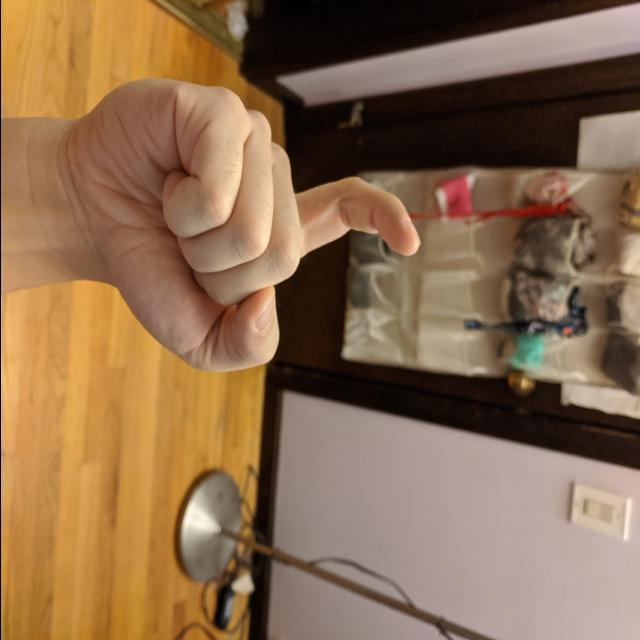X: (66, 71, 423, 381)
